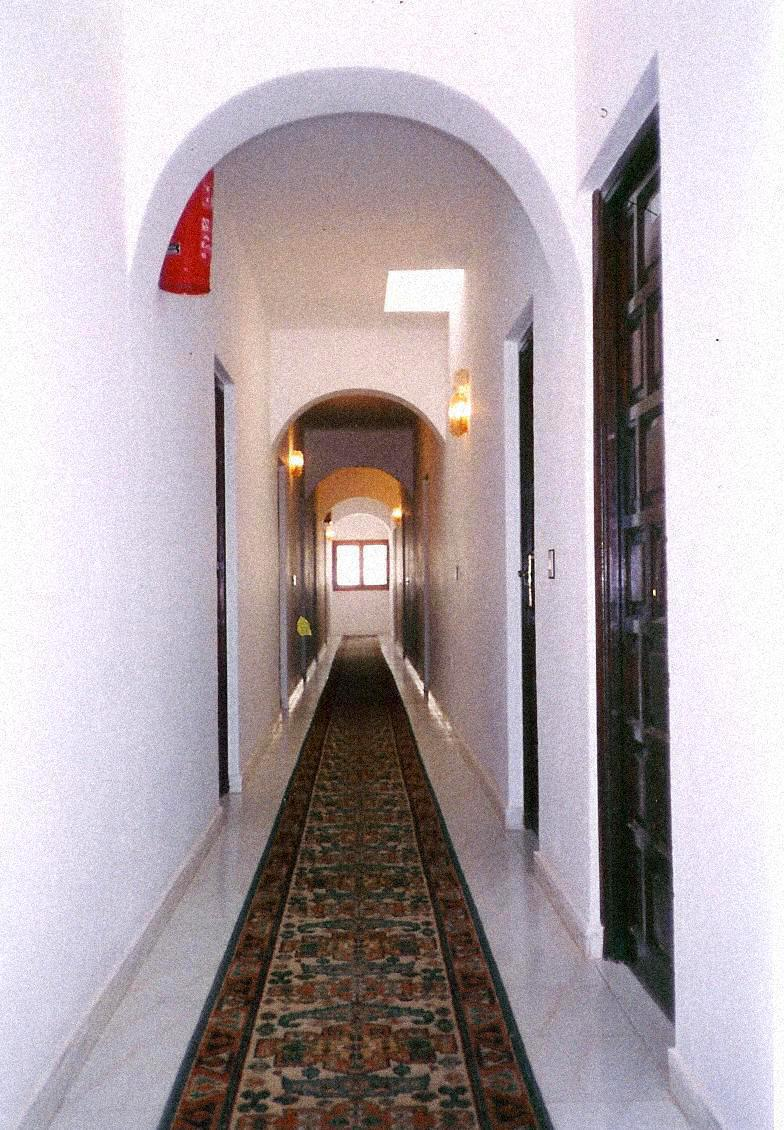Puerta: (588, 180, 671, 999), (512, 330, 545, 851), (206, 369, 230, 793)
